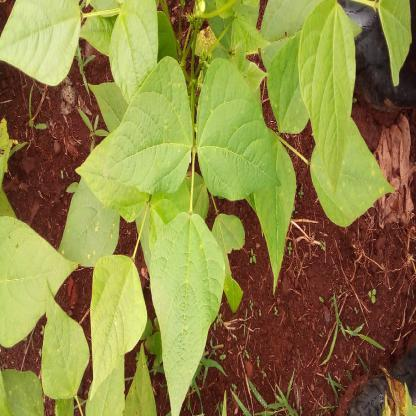Beans_Rust: (108, 55, 192, 198), (308, 118, 394, 224), (51, 165, 125, 260)
